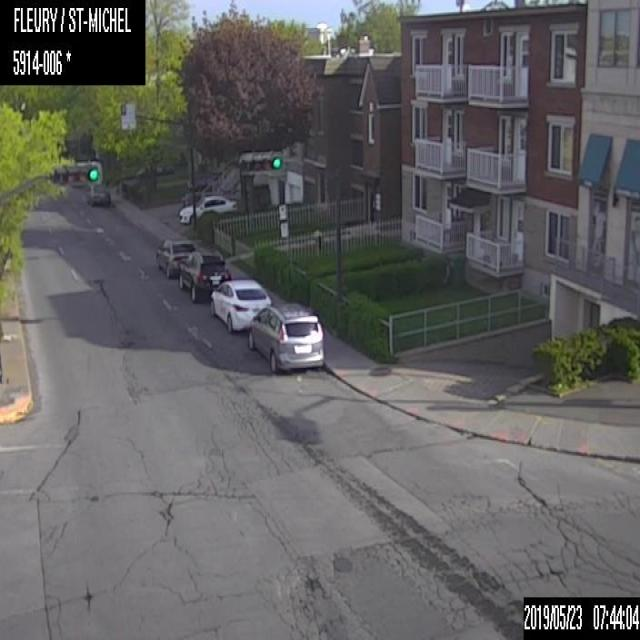vehicle: (246, 296, 324, 373), (208, 276, 270, 334), (178, 248, 231, 304), (175, 193, 238, 225), (155, 237, 192, 279), (85, 185, 113, 207)
